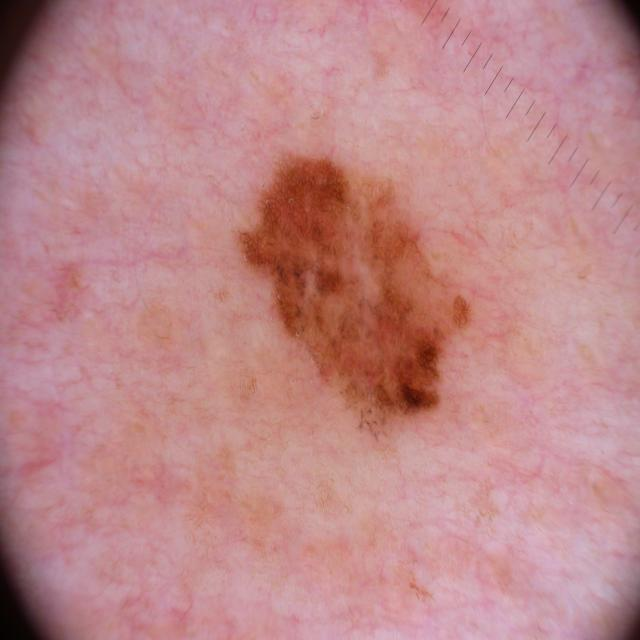Melanoma: (231, 141, 489, 443)
